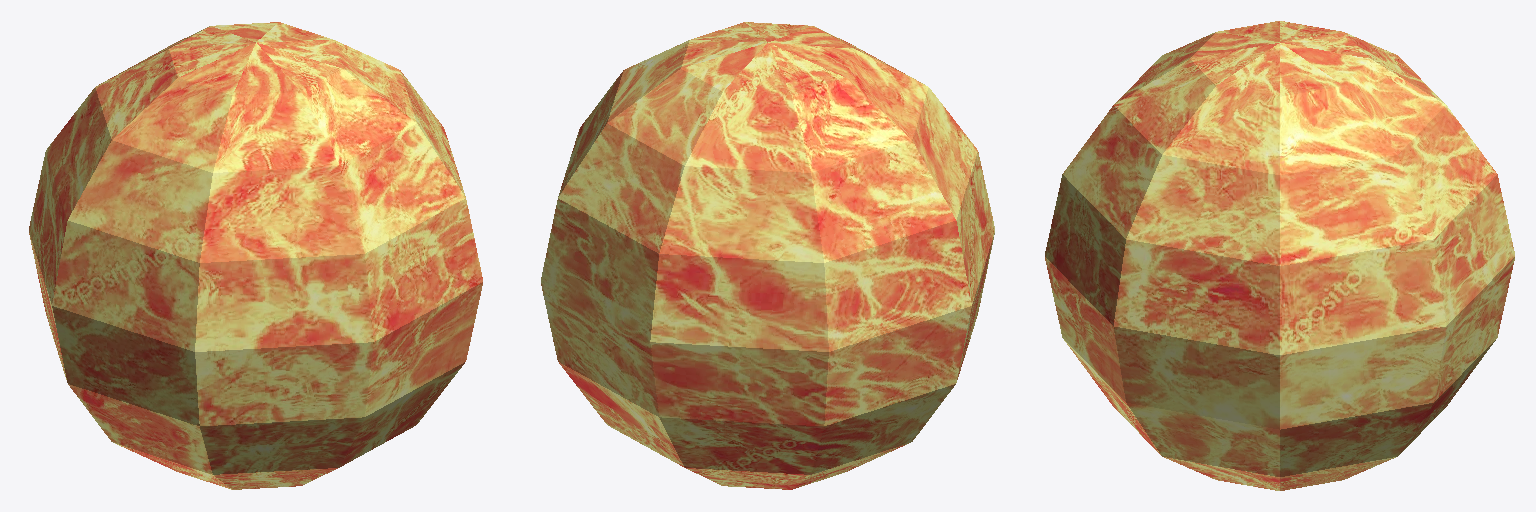
3 views of the same model, side by side, from view 1: azimuth 30°, elevation 25°; view 2: azimuth 150°, elevation 25°; view 3: azimuth 270°, elevation 25° (orthographic).
Visible parts, largest first — view 1: Sphere; view 2: Sphere; view 3: Sphere.
Part boxes in pixels (left/top/right/bottom): Sphere: left=29, top=22, right=482, bottom=489; Sphere: left=541, top=22, right=994, bottom=489; Sphere: left=1045, top=21, right=1514, bottom=490.
Bounding box in the file's own units: 0.5 × 0.5 × 0.5.
1 materials, 1 textured.